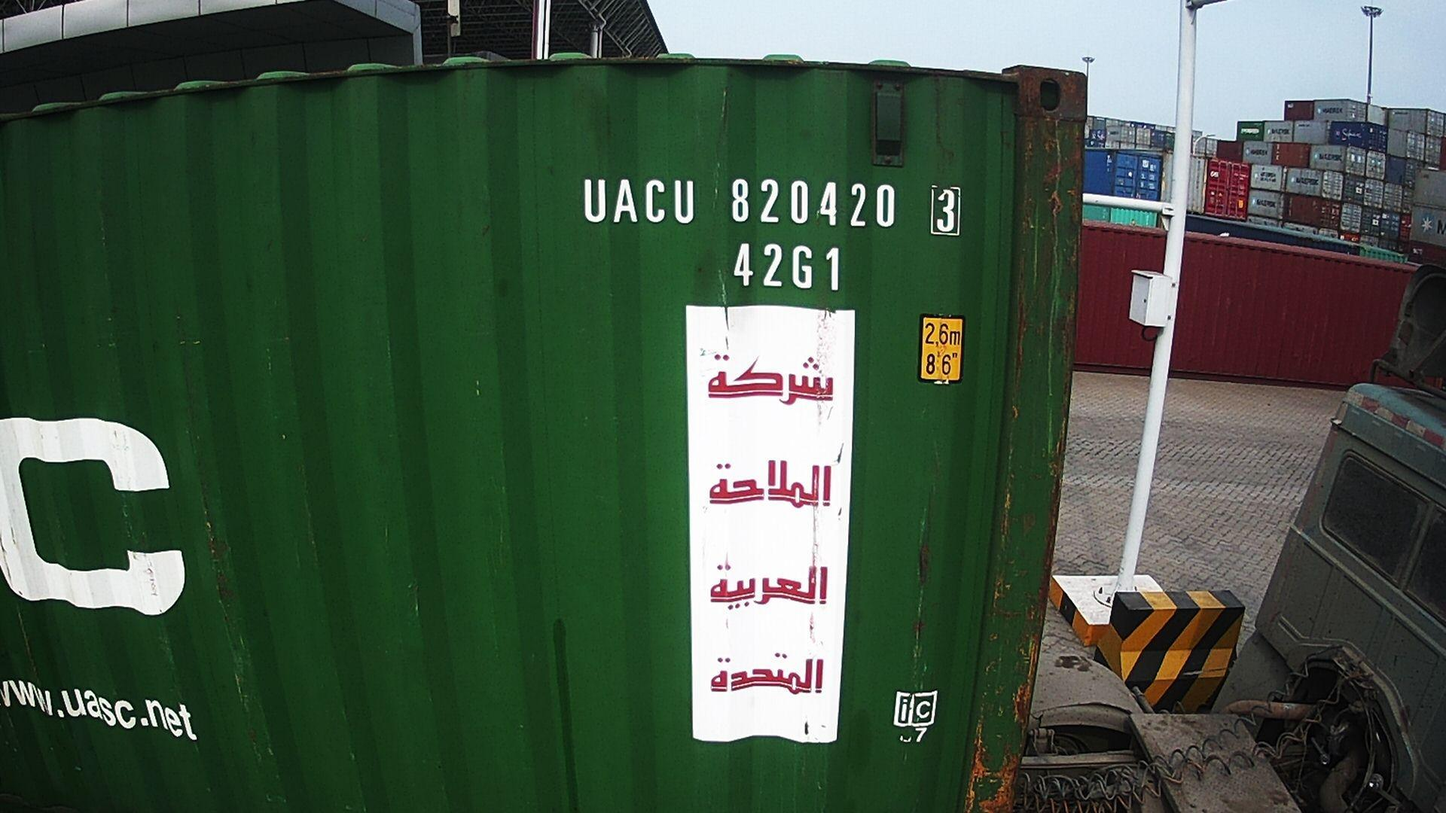container-numbers: (576, 172, 969, 239), (729, 239, 850, 296)
